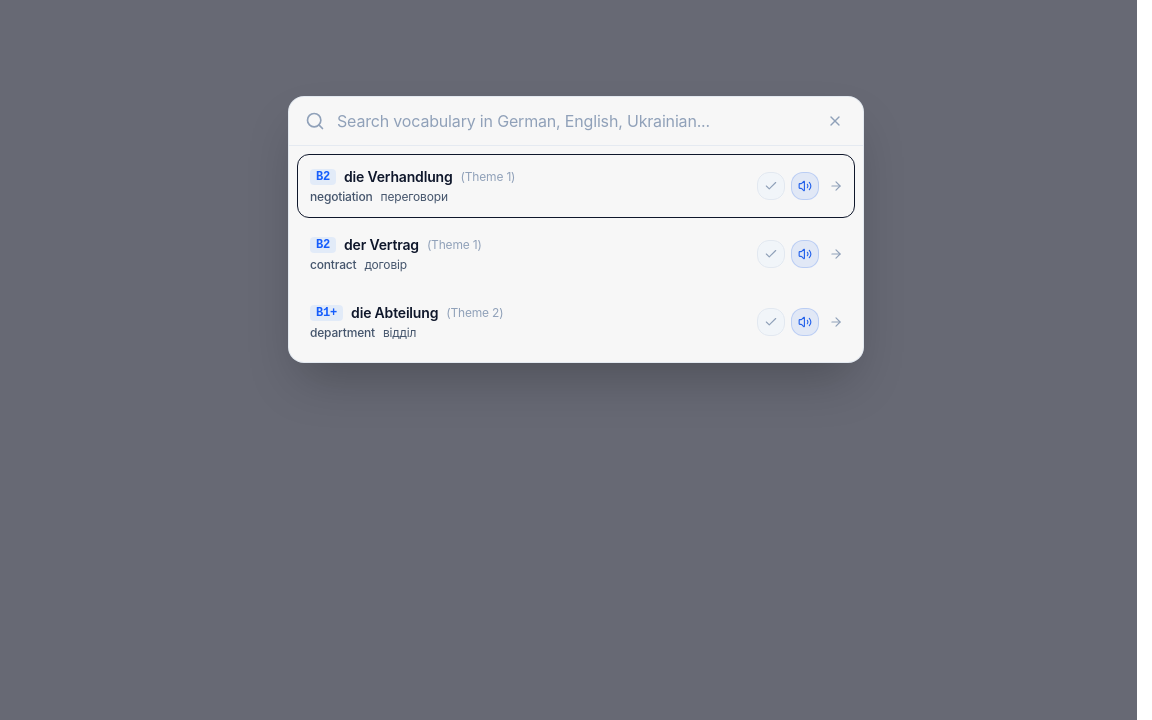
Test: CommandPaletteModal.vue › renders when isOpen is true and filters words by query
The width and height of the screenshot is (1152, 720).
Type "vertrag" into the dropdown with placeholder "Search vocabulary in German, English, Ukrainian...".
click(580, 121); type("vertrag")  # box [337, 109, 823, 133]
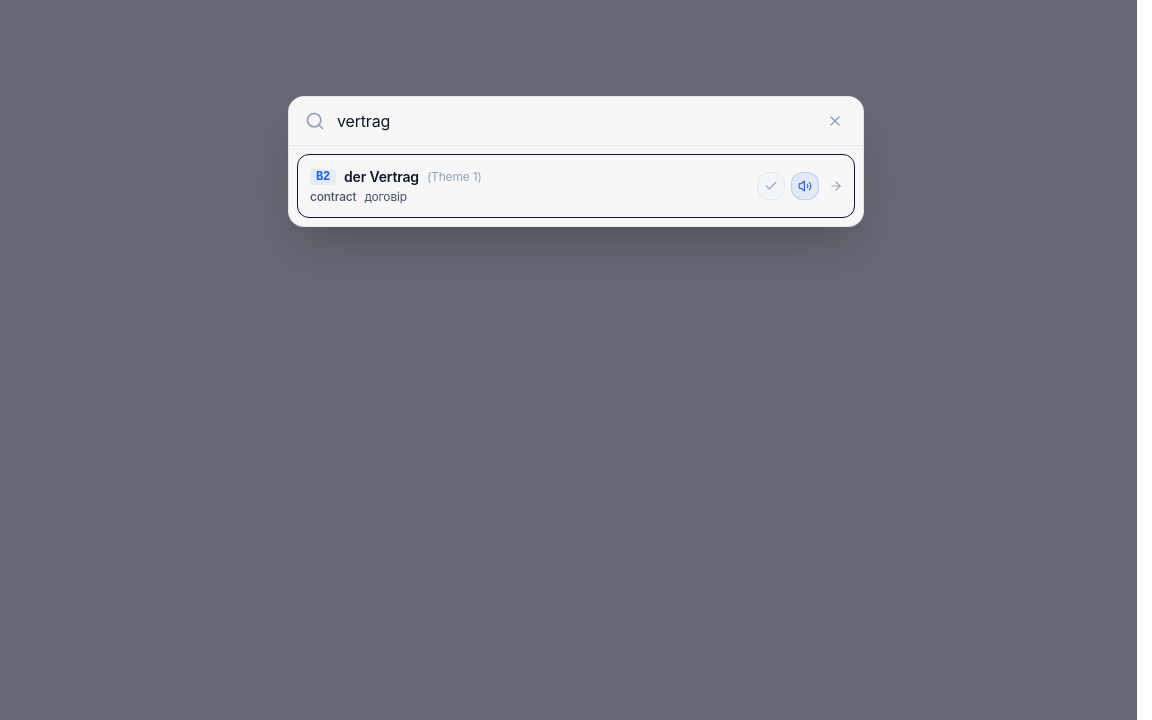
expect the text "der Vertrag" is shown: met, box [344, 167, 419, 187]
expect the text "die Verhandlung" is gone: met
